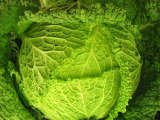cabbage: (13, 5, 145, 119)
